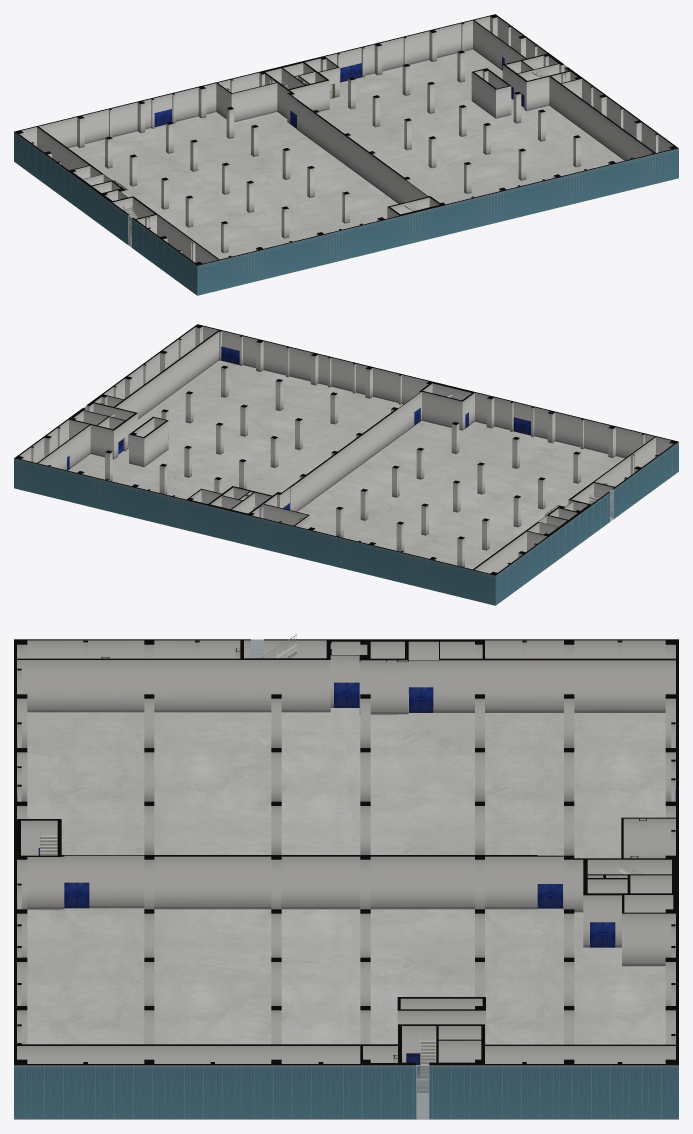
3 views of the same model, one above another, from view 1: azimuth 30°, elevation 25°; view 2: azimuth 150°, elevation 25°; view 3: azimuth 270°, elevation 25° (orthographic). The views are drawn at different scales.
Parts seen in each view (by area): view 1: Polyline, Line2221; view 2: Polyline, Line2221; view 3: Polyline, Line2221, Rectangle1274.
Boxes of the visible parts, x1=… form: Polyline: x1=14, y1=14, x2=678, y2=295; Line2221: x1=68, y1=49, x2=624, y2=259; Polyline: x1=14, y1=324, x2=678, y2=605; Line2221: x1=68, y1=360, x2=624, y2=569; Polyline: x1=14, y1=639, x2=678, y2=1119; Line2221: x1=27, y1=694, x2=665, y2=1044; Rectangle1274: x1=251, y1=639, x2=429, y2=1119.
Bounding box in the file's own units: 79.28 × 5.43 × 52.27.
Materials: 12 (10 with a texture image).
